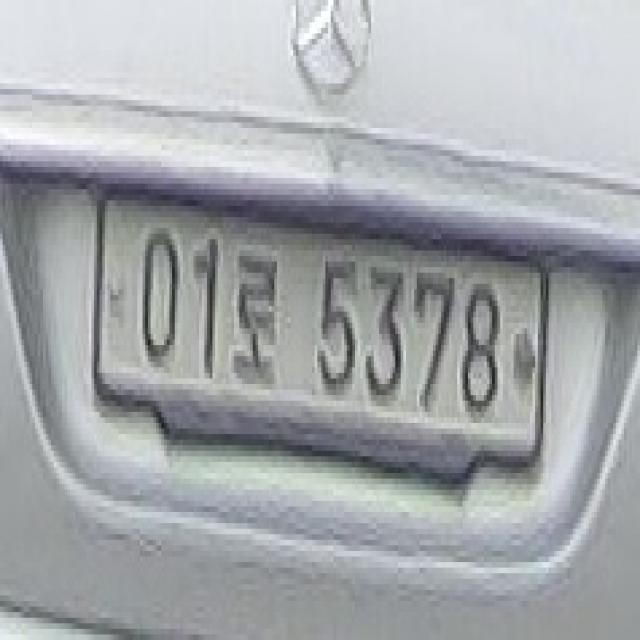0: (135, 212, 183, 378)
1: (190, 220, 222, 393)
3: (364, 253, 410, 416)
5: (312, 246, 360, 399)
7: (414, 262, 459, 422)
8: (460, 276, 500, 424)
license_plate: (78, 175, 554, 478)
lo: (230, 244, 284, 402)
